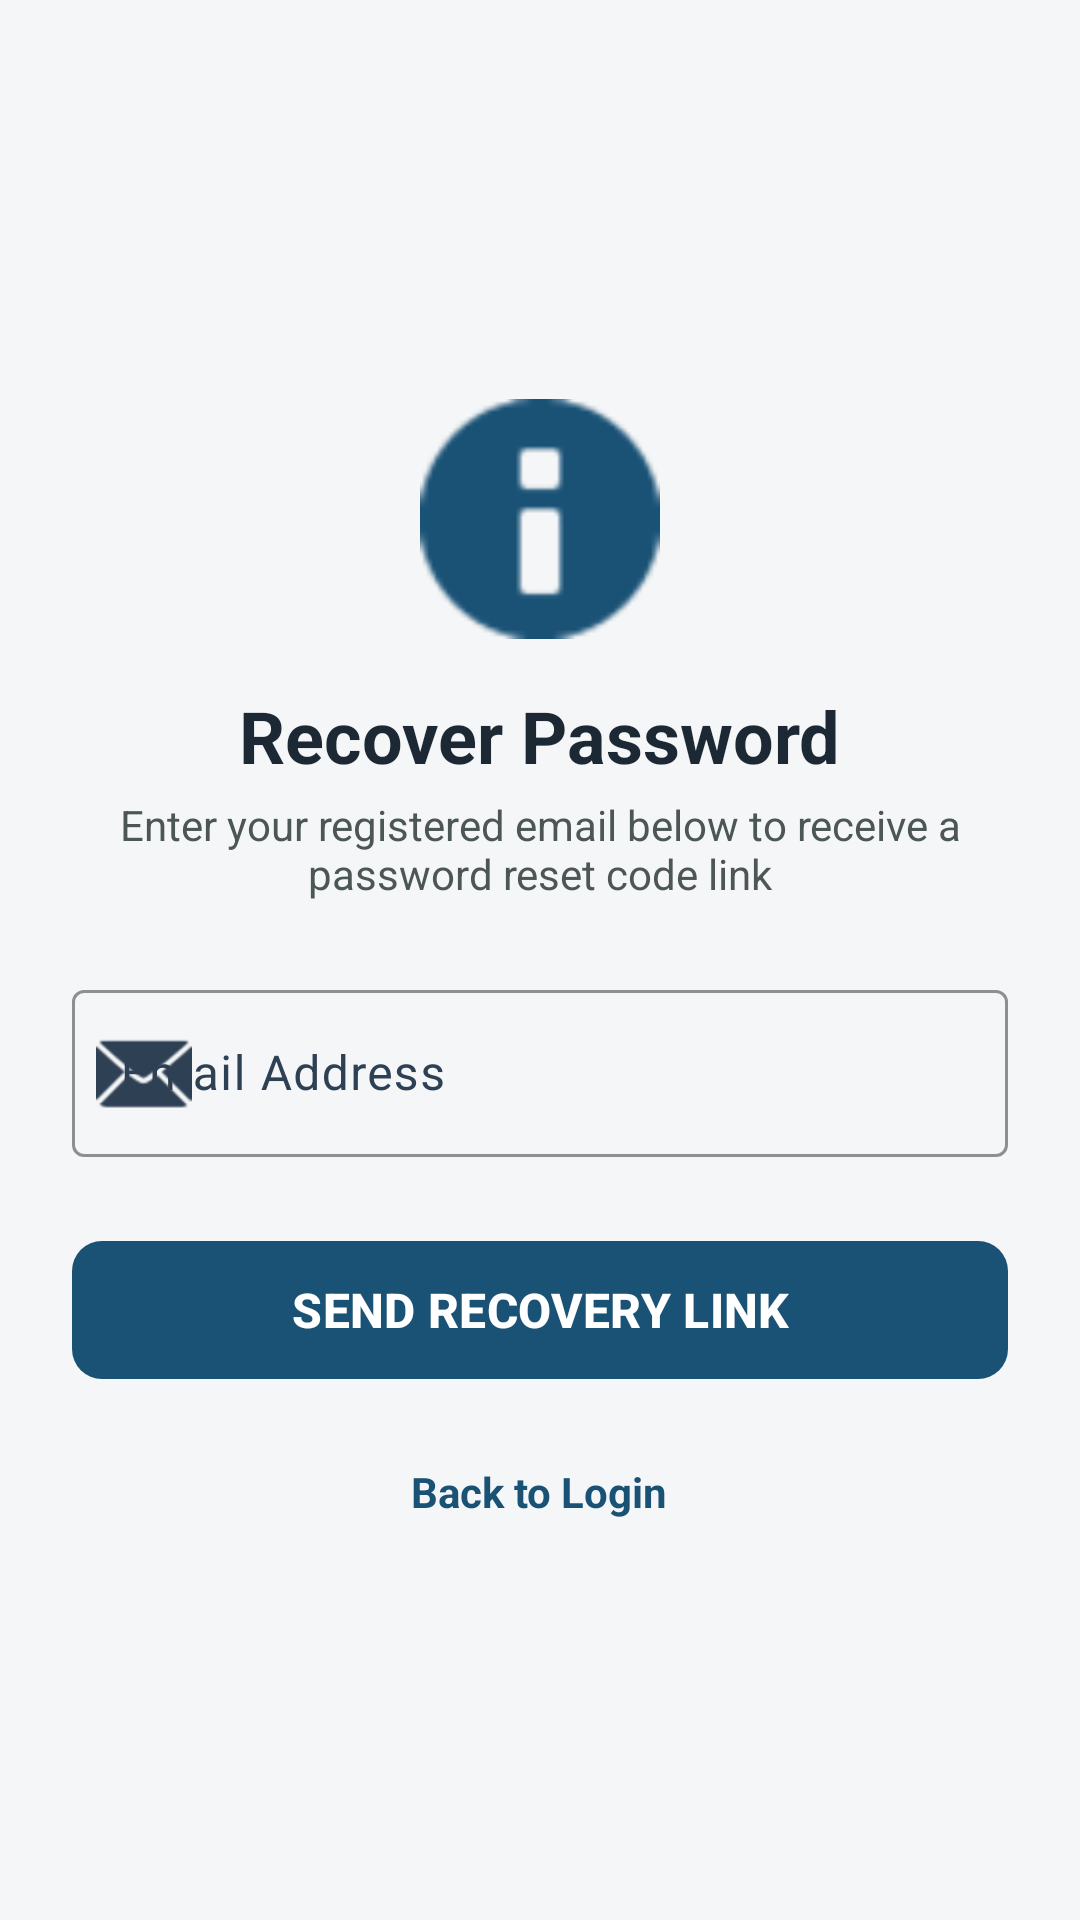

Icons on this 1080 x 1920 Android screen, each with the point to tap as [x,y]:
Info Icon: [540,519]
